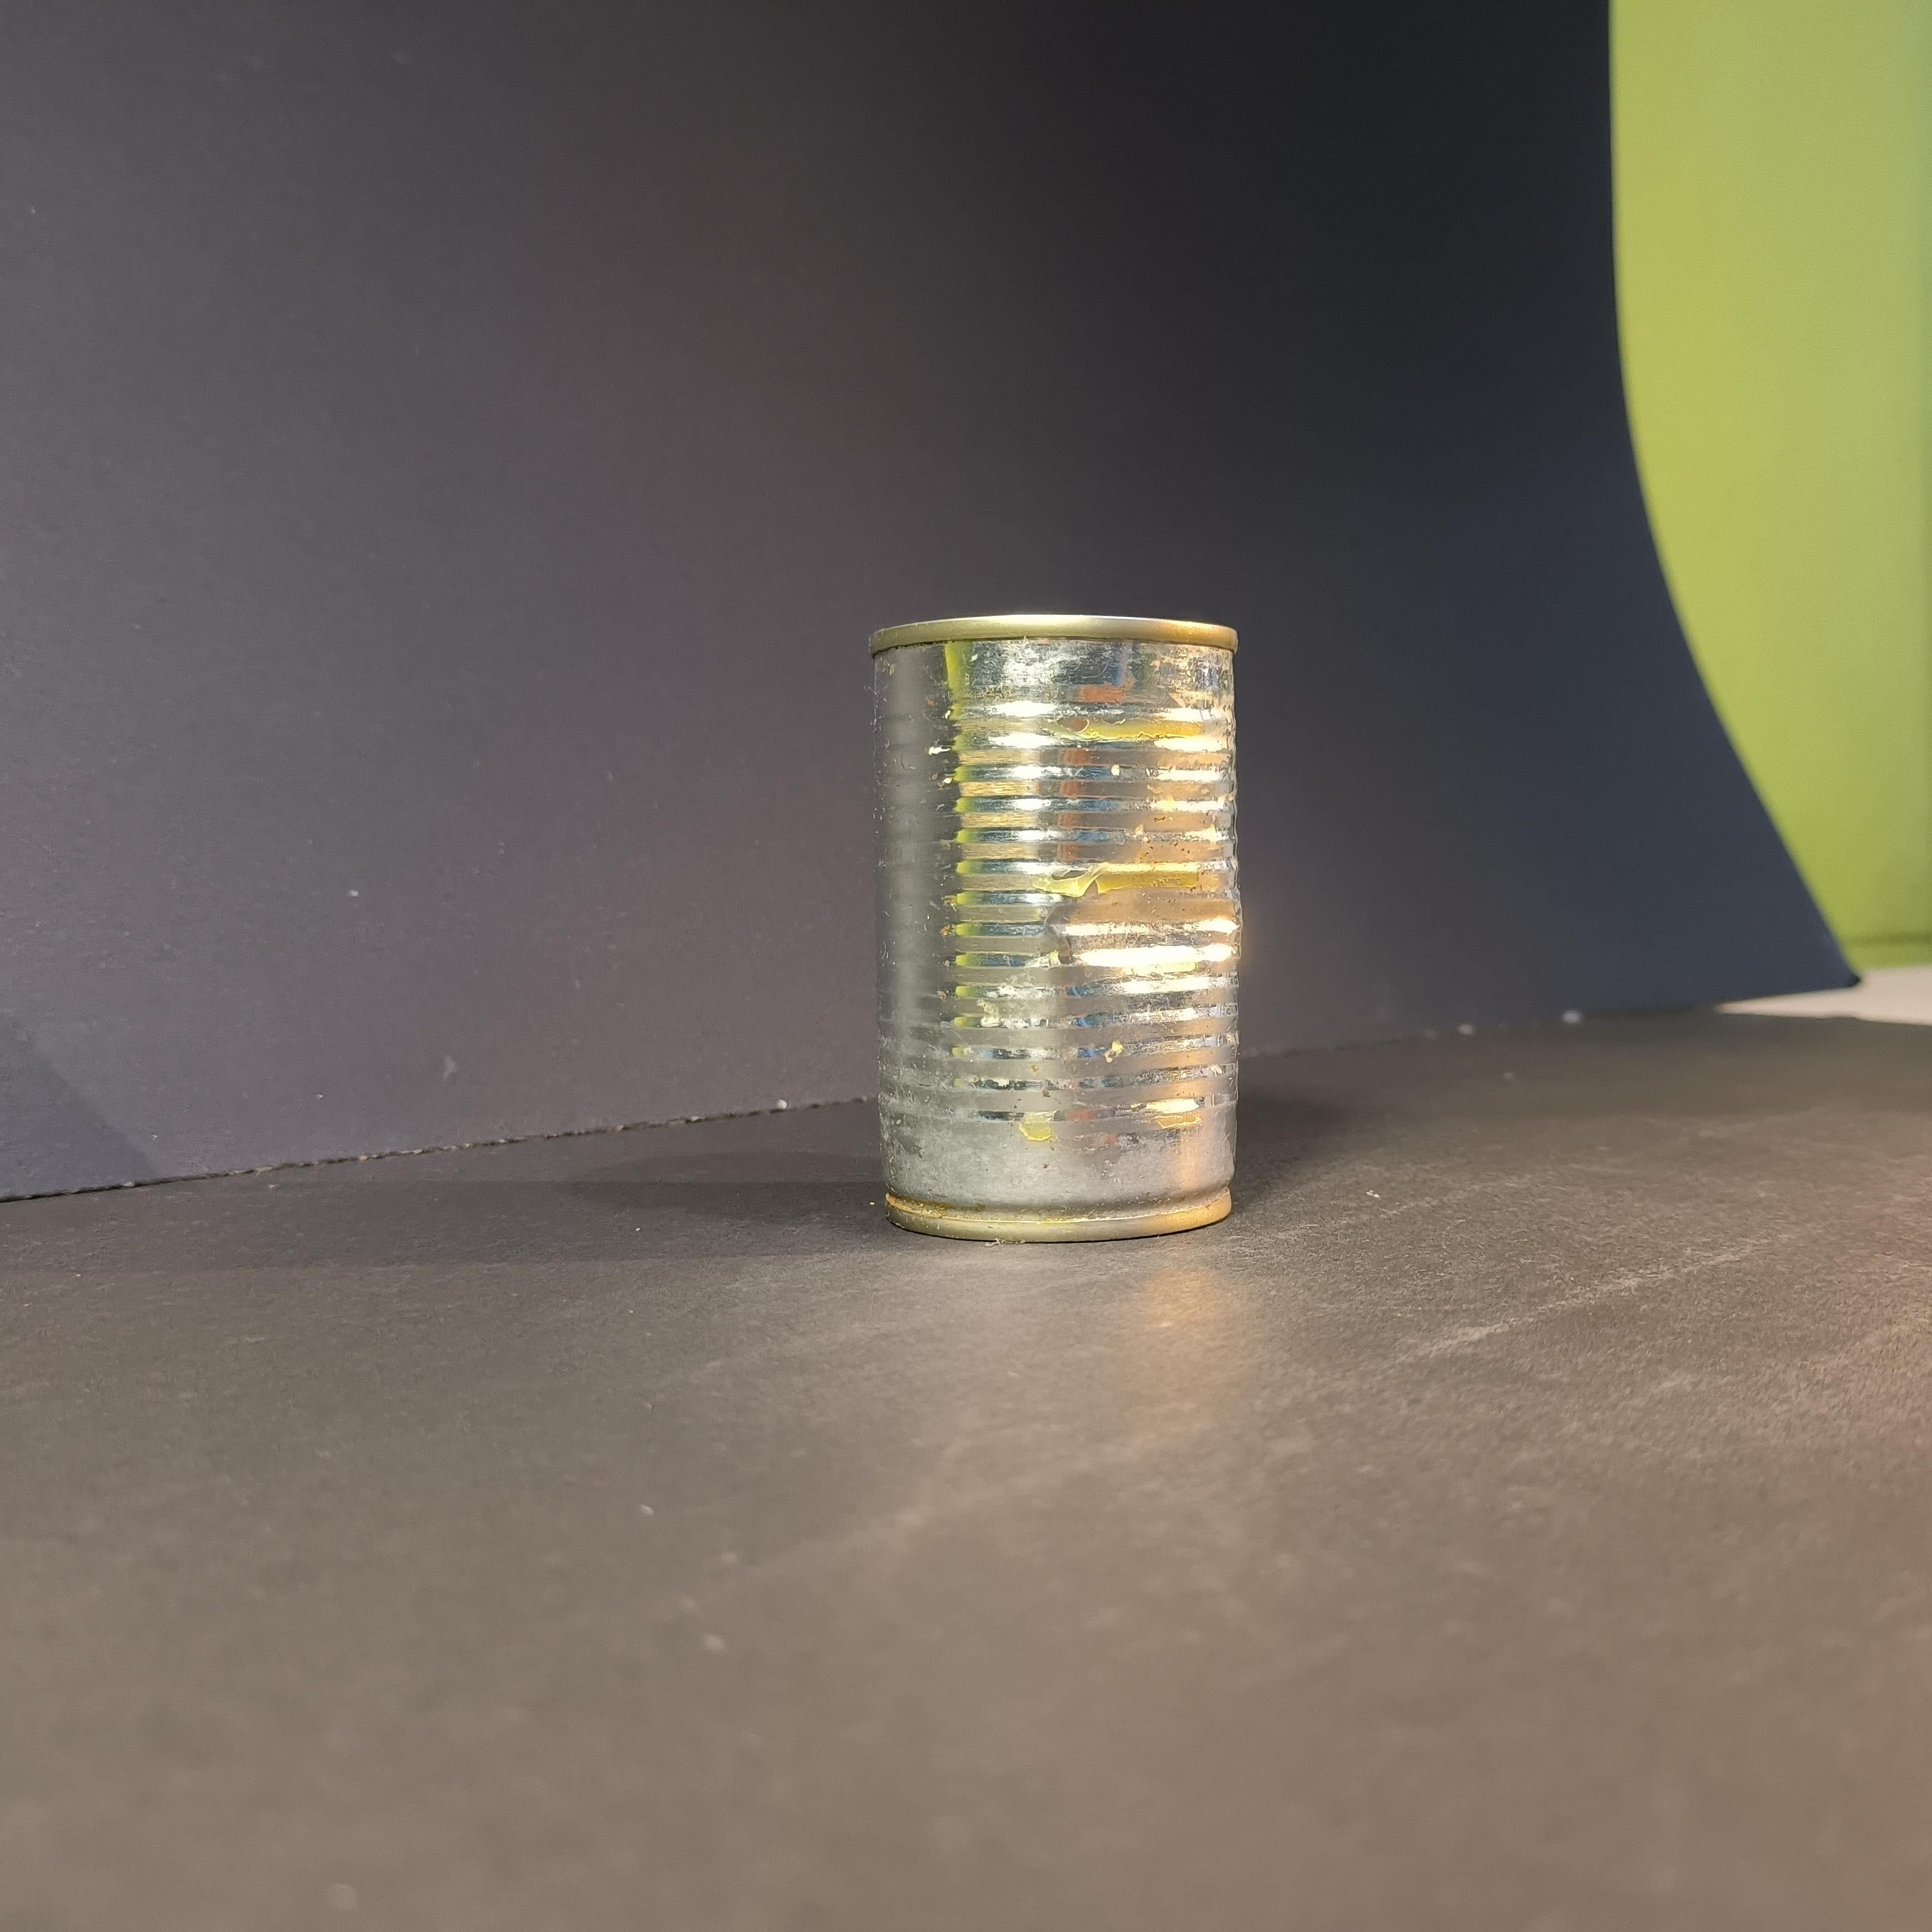Minor Defect: (864, 605, 1252, 1251)
